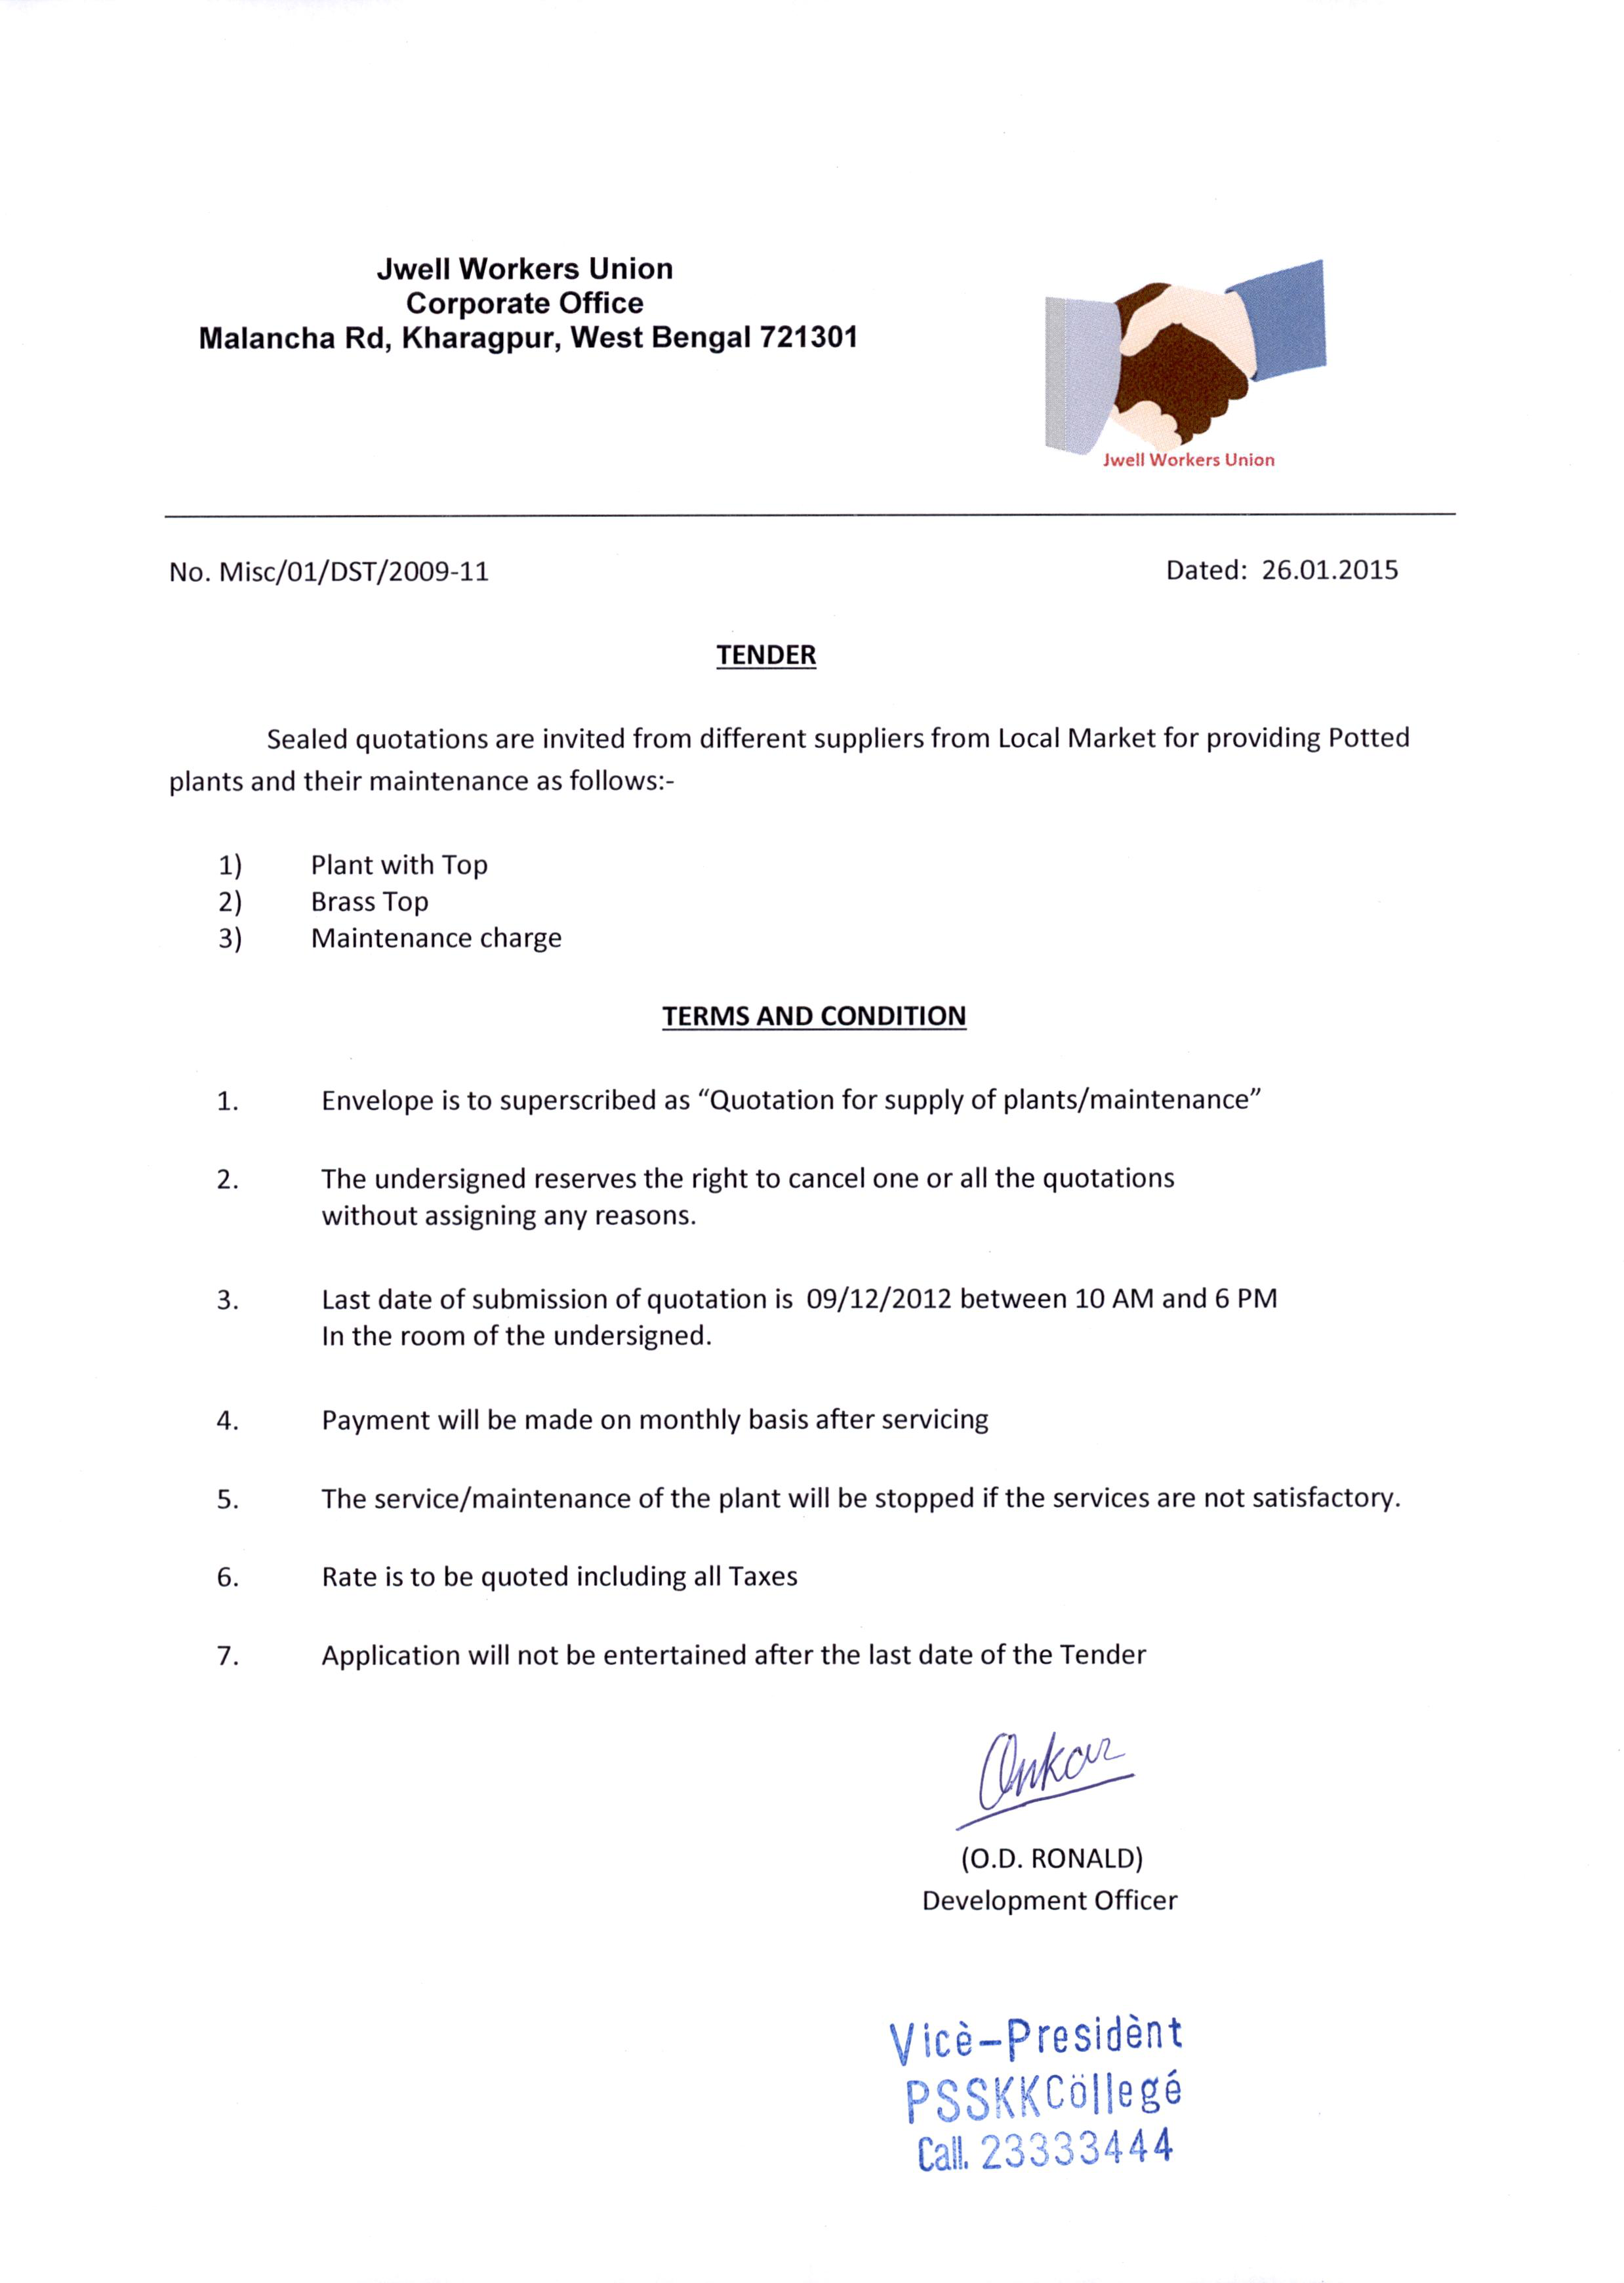Signature: (949, 1717, 1142, 1835)
